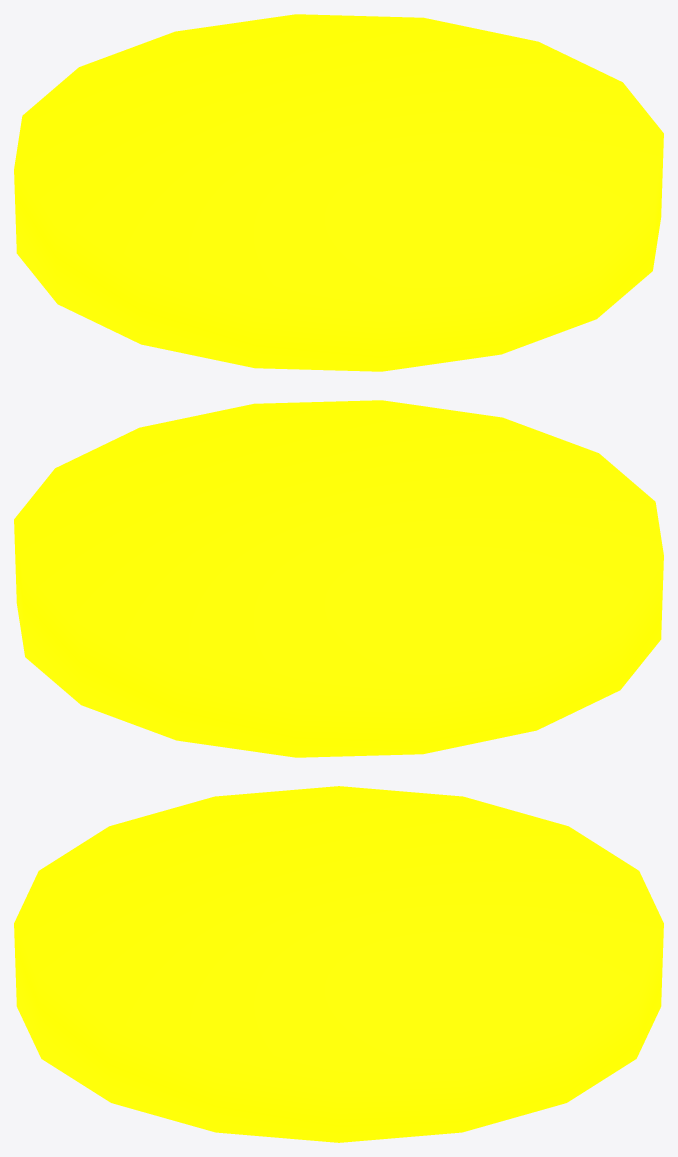
File: golden_patty.glb
3 renders of one model, top to bottom at view 1: azimuth 30°, elevation 25°; view 2: azimuth 150°, elevation 25°; view 3: azimuth 270°, elevation 25°, orthographic.
Visible parts, largest first — view 1: patty; view 2: patty; view 3: patty.
Boxes of the visible parts, x1,y1,x2,y2 form: patty: [14, 14, 663, 371]; patty: [14, 400, 663, 757]; patty: [14, 786, 663, 1142].
Bounding box in the file's own units: 0.6266 × 0.0886 × 0.6266.
